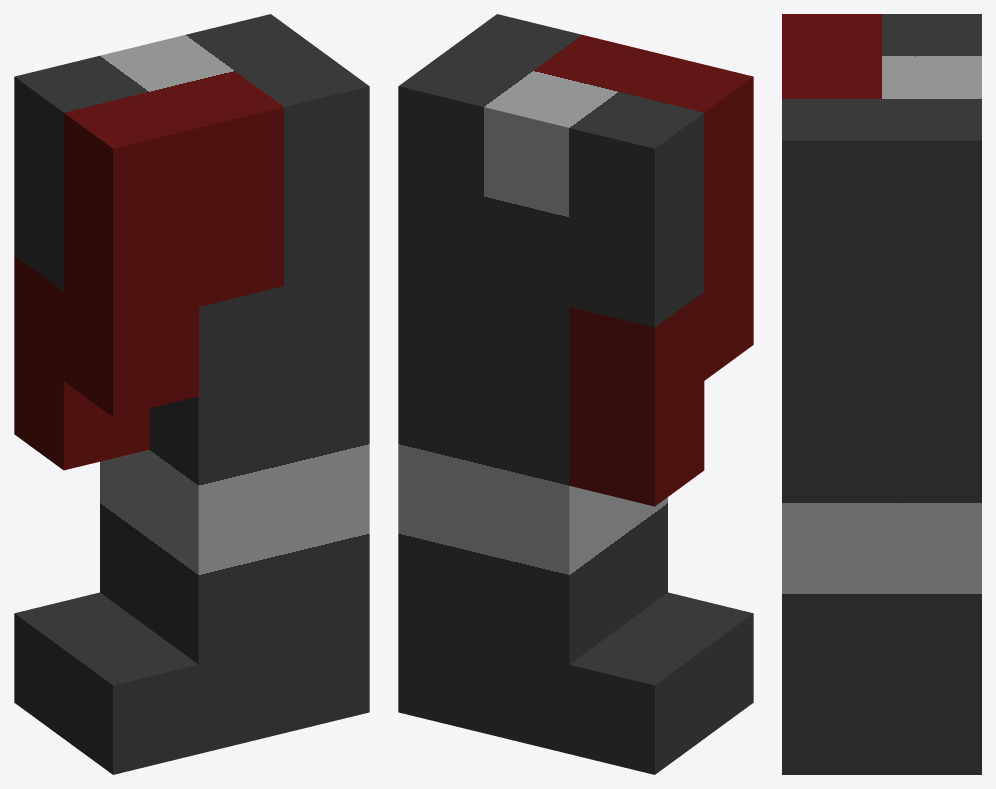
The model's file is BKLeftLeg.dae.
3 views of the same model, side by side, from view 1: azimuth 30°, elevation 25°; view 2: azimuth 150°, elevation 25°; view 3: azimuth 270°, elevation 25° (orthographic).
Parts seen in each view (by area): view 1: BKLeftLeg; view 2: BKLeftLeg; view 3: BKLeftLeg.
Boxes of the visible parts, bbox=[...] form: BKLeftLeg: bbox=[14, 14, 369, 774]; BKLeftLeg: bbox=[398, 14, 753, 774]; BKLeftLeg: bbox=[782, 14, 981, 774].
Size of the model in its own units: 0.3 by 0.2 by 0.7.
1 material, 1 textured.
